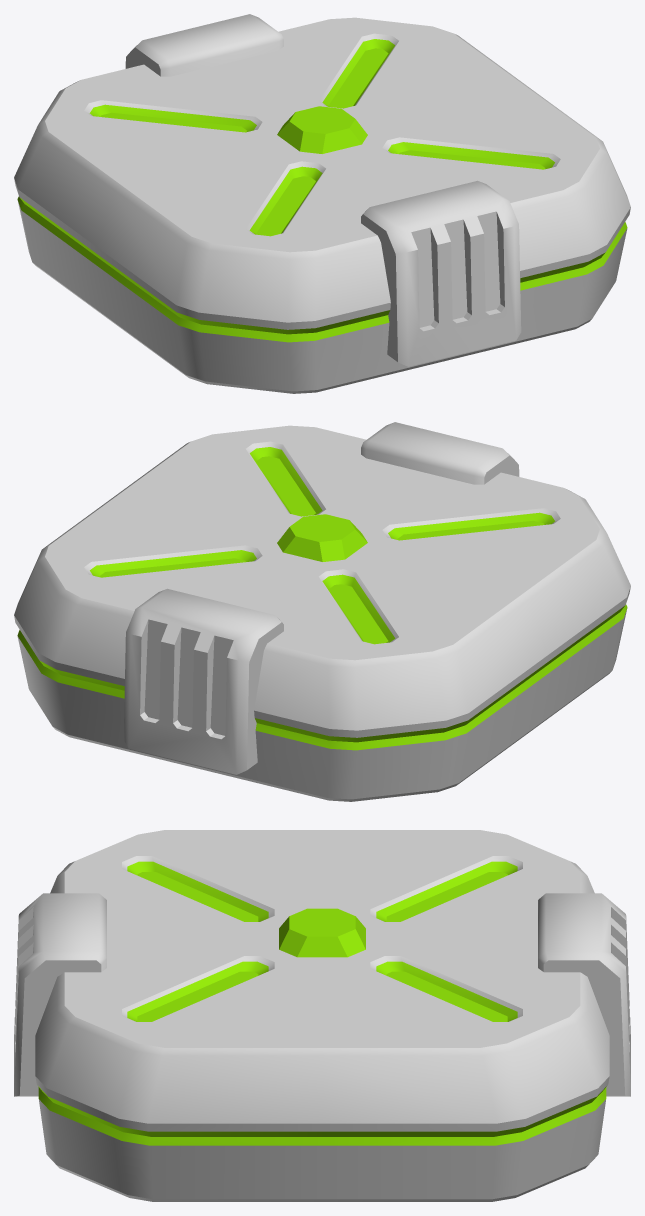
File: Med Kit A Mat.fbx
The picture shows the model from 3 angles, top to bottom: view 1: azimuth 30°, elevation 25°; view 2: azimuth 150°, elevation 25°; view 3: azimuth 270°, elevation 25°; orthographic projection. The views are drawn at different scales.
Parts seen in each view (by area): view 1: Med Kit A Mat; view 2: Med Kit A Mat; view 3: Med Kit A Mat.
Part boxes in pixels (left/top/right/bottom): Med Kit A Mat: left=14, top=14, right=630, bottom=393; Med Kit A Mat: left=14, top=422, right=630, bottom=801; Med Kit A Mat: left=14, top=830, right=630, bottom=1201.
Size of the model in its own units: 0.5942 by 0.19 by 0.6384.
